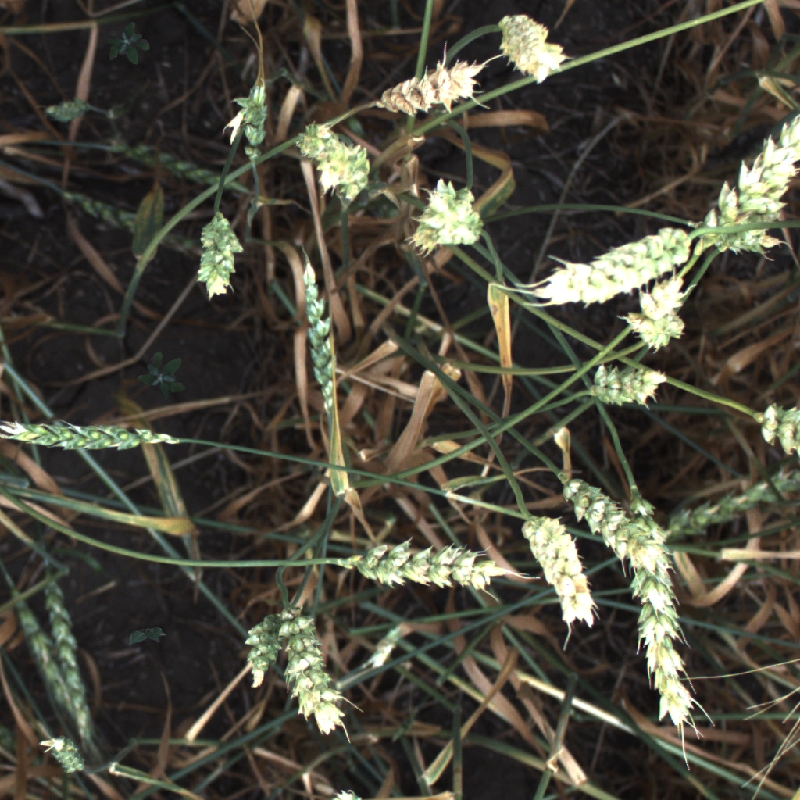spikelet: (532, 221, 707, 317), (550, 465, 679, 590), (692, 106, 800, 248), (628, 503, 696, 725), (662, 462, 792, 541), (367, 52, 490, 127), (282, 602, 345, 735), (118, 141, 245, 203), (350, 540, 500, 592), (523, 515, 593, 625), (75, 192, 196, 253), (1, 417, 168, 458), (183, 204, 246, 309), (45, 585, 89, 732), (496, 3, 571, 89), (628, 260, 695, 355), (294, 117, 371, 199), (299, 259, 338, 417), (239, 601, 299, 690), (407, 182, 480, 245), (20, 611, 68, 706), (752, 393, 800, 462), (588, 364, 663, 406), (228, 80, 267, 159), (35, 730, 89, 776), (45, 97, 85, 125)
weed: (131, 353, 187, 410), (101, 20, 153, 70), (126, 625, 167, 648)
